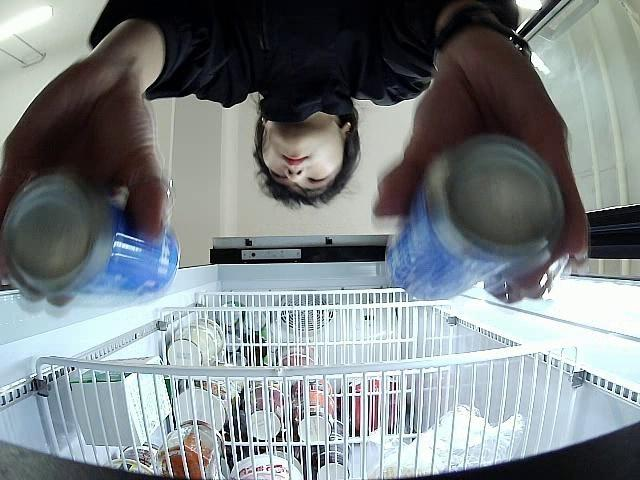15_letsbe: (381, 136, 564, 302), (1, 168, 180, 304)
